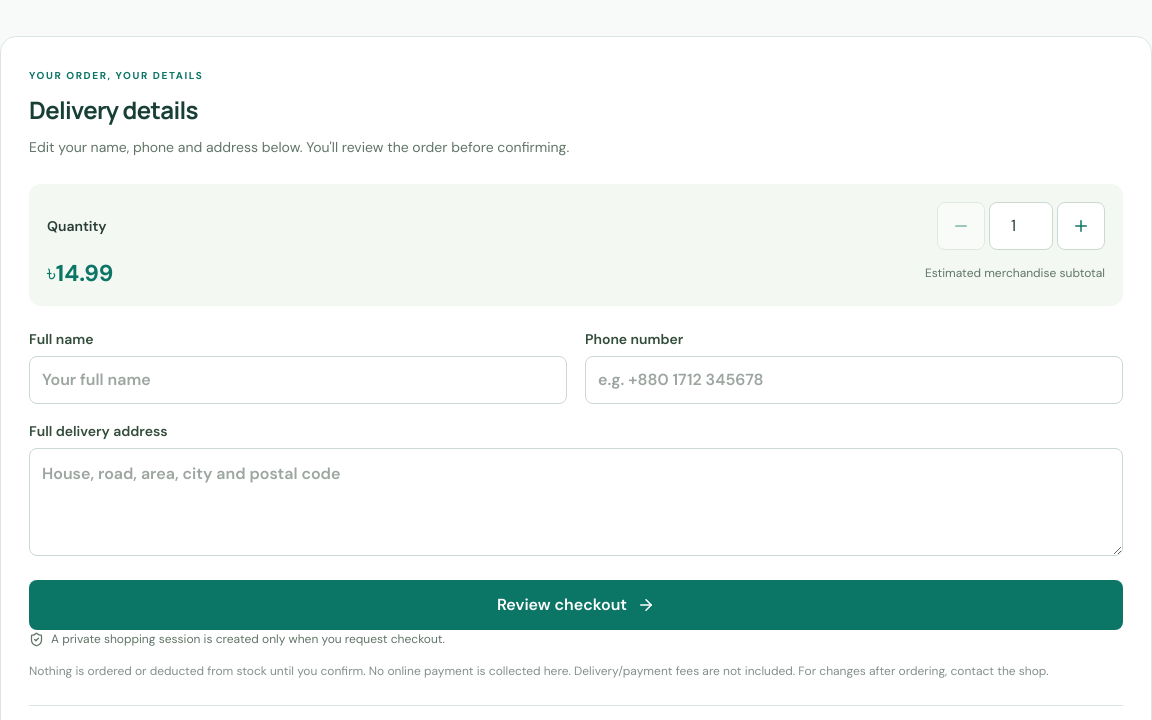
mobile product order form › does not prepare an order with an invalid phone number
Step 1. Type "Mobile Shopper" into the field labelled "Full name" → (298, 380), box [29,356,567,404]
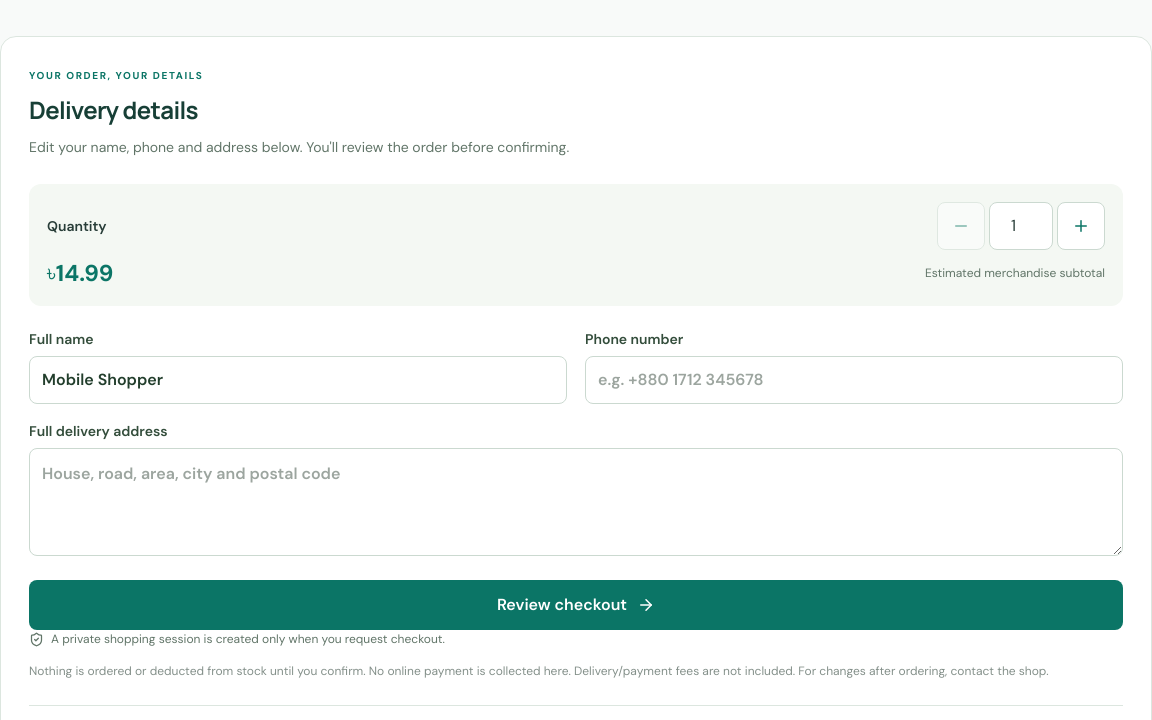
Step 2. Type "01712345678" into the field labelled "Phone number" → (854, 380), box [585,356,1123,404]
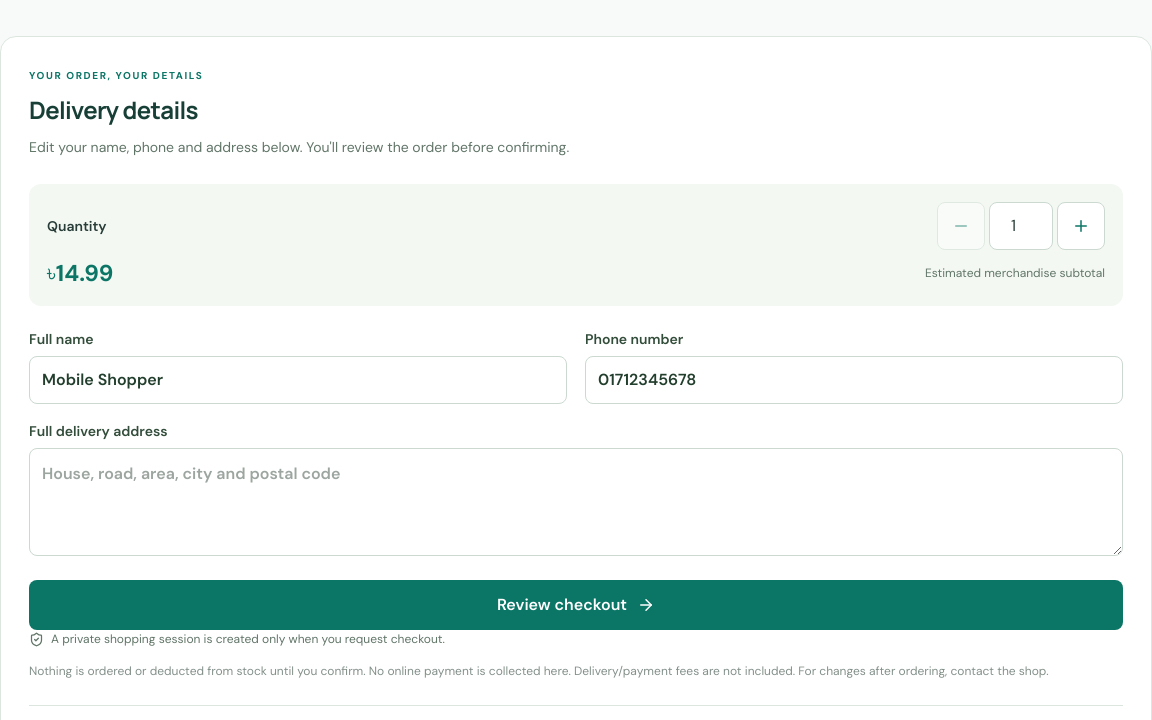
Step 3. Type "House 12, Road 4, Dhaka 1205" into the text box labelled "Full delivery address" → (576, 502), box [29,448,1123,556]
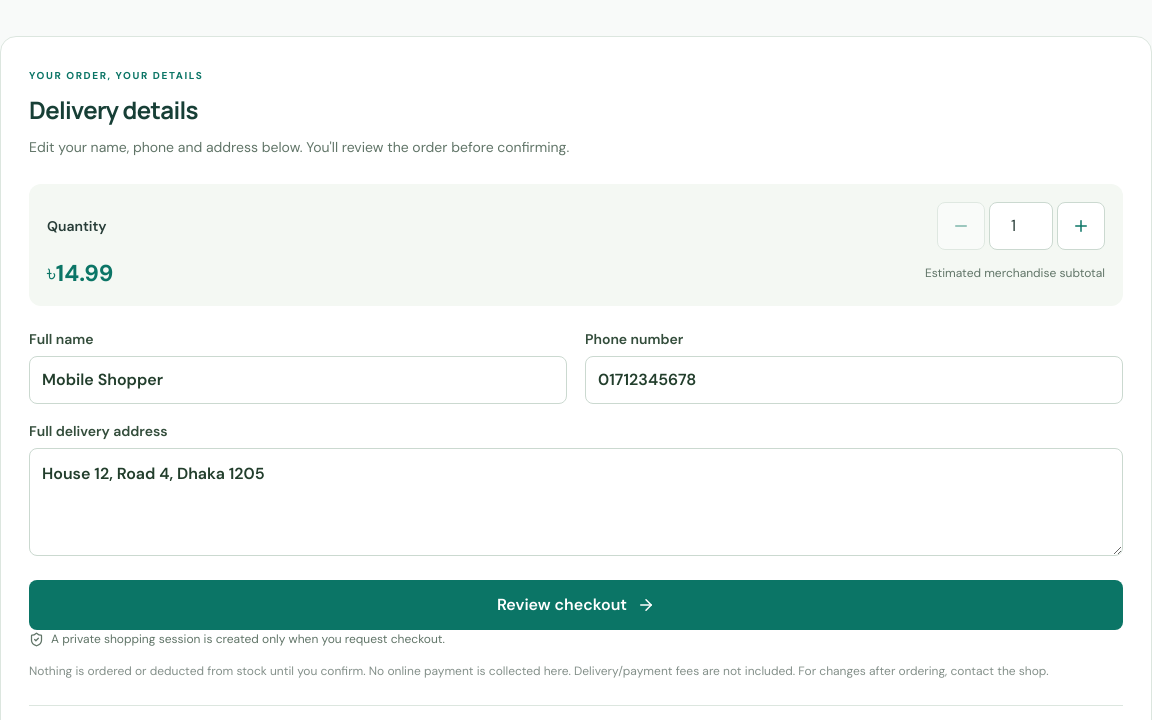
Step 4. Replace the text in the field labelled "Phone number" with "123" → (854, 380), box [585,356,1123,404]
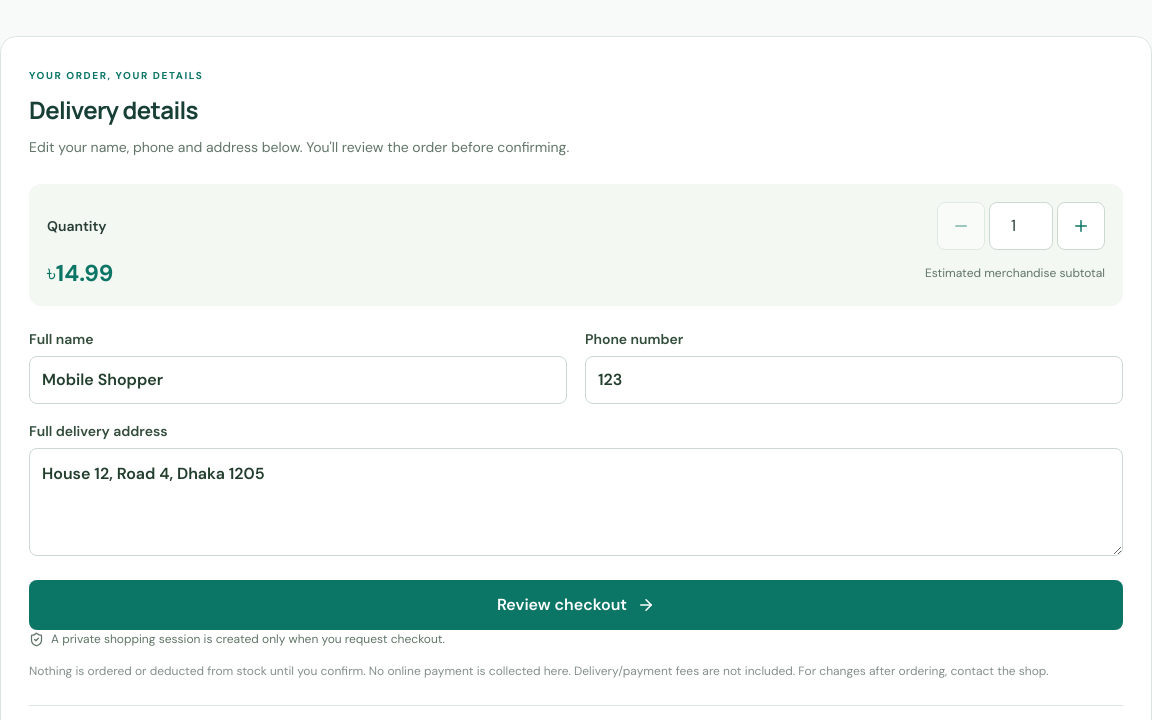
Step 5. Submit the form named "Review checkout"
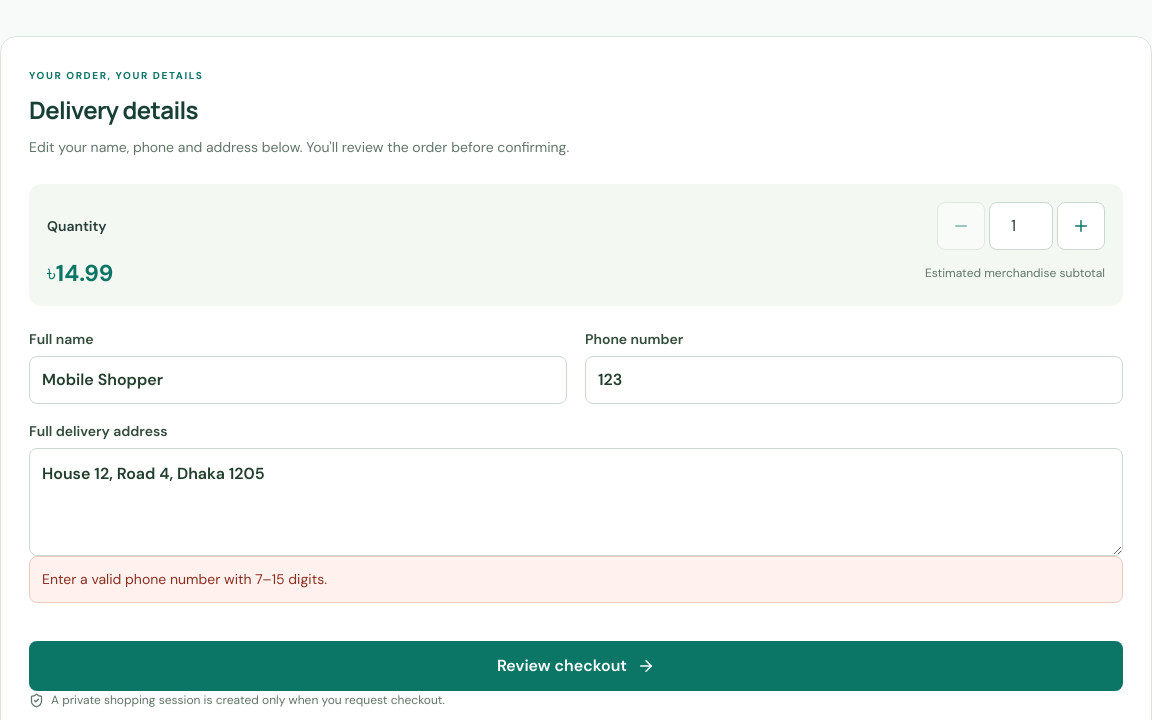
Result: the message shows "7–15 digits" at [42,570,327,588]
